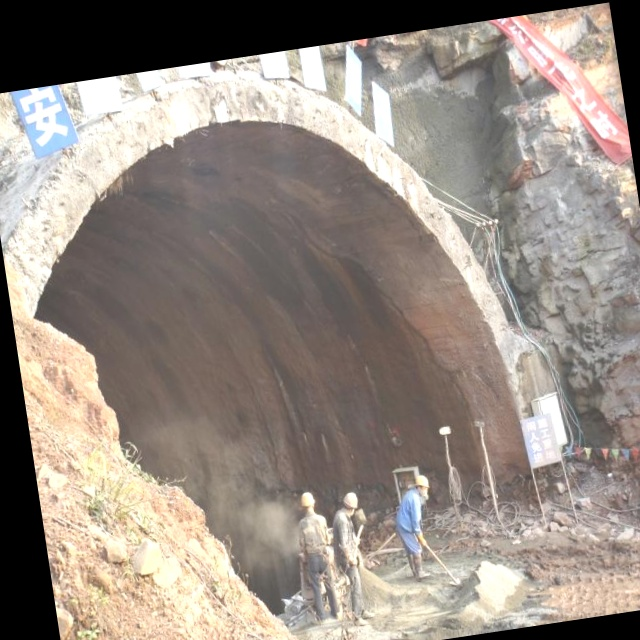Con_Casco: (300, 490, 316, 515), (415, 474, 431, 499)
Sin_Chaleco: (331, 510, 362, 570), (297, 512, 332, 559)
